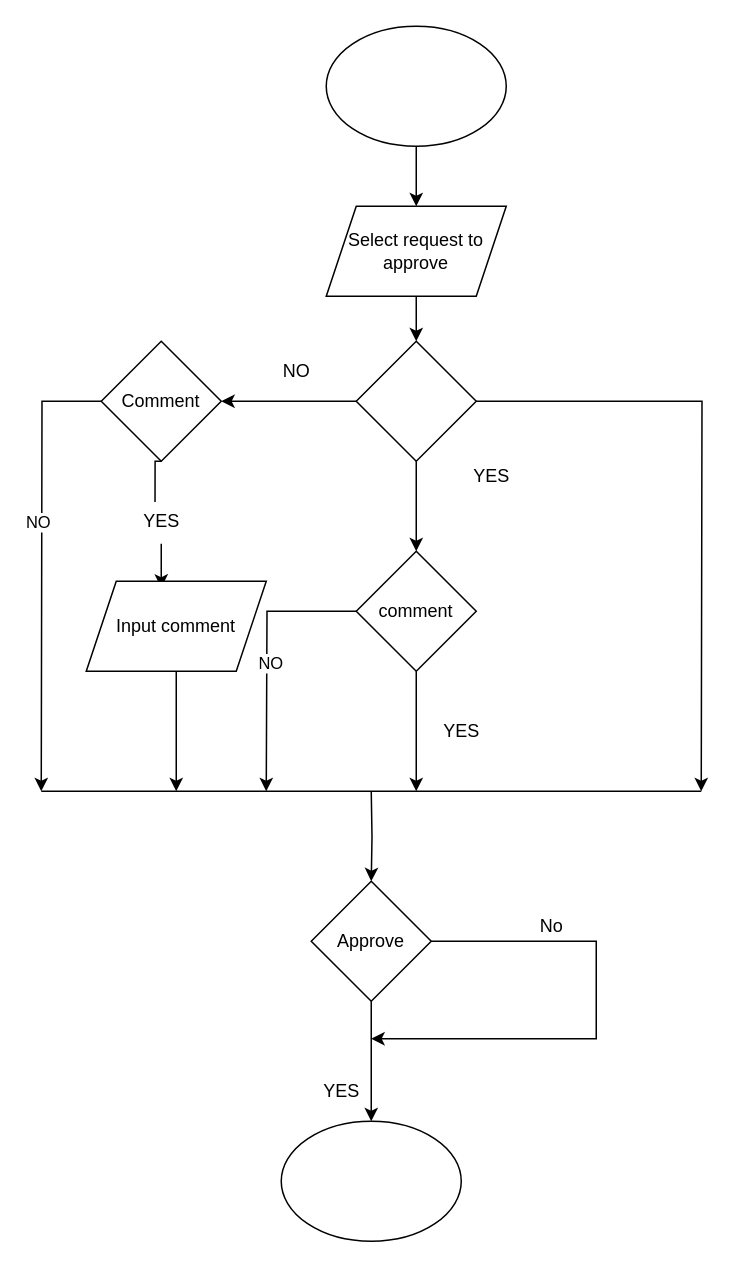
Image size: 741x1268. Some labels were removed from this diagram. Here are the shapes that lost their labels. From the top down, the centre of each, then its label:
the point at 415,85: START
the point at 415,400: Open record
the point at 370,1180: STOP
